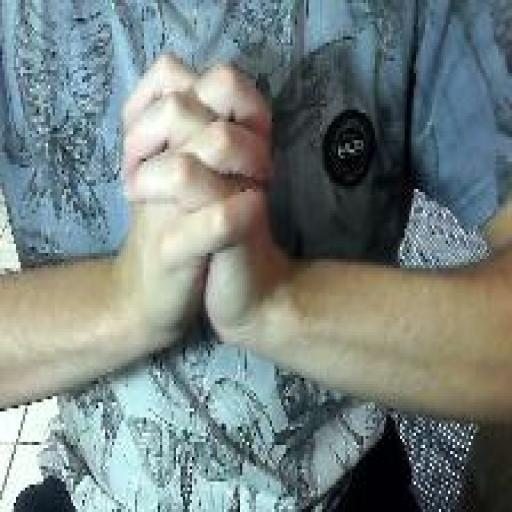Mi -snake-: (118, 47, 278, 358)
